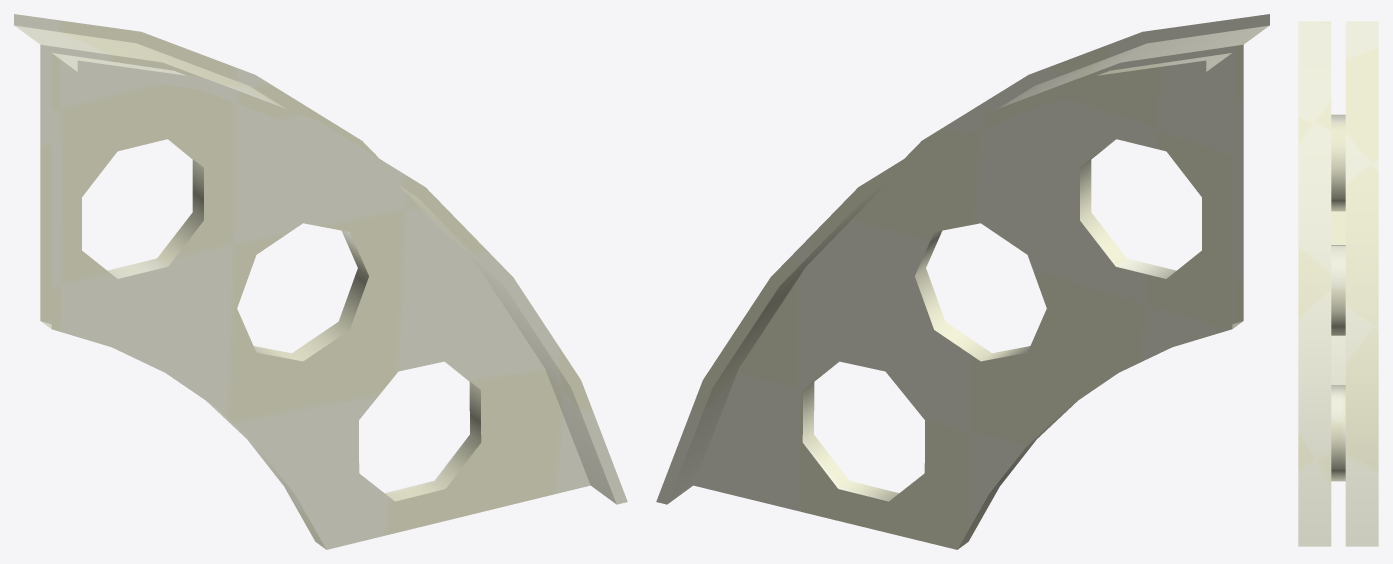
Rendered from wall_corner_round_struss.fbx.
The picture shows the model from 3 angles, left to right: view 1: azimuth 30°, elevation 25°; view 2: azimuth 150°, elevation 25°; view 3: azimuth 270°, elevation 25°; orthographic projection. The views are drawn at different scales.
Visible parts, largest first — view 1: wall_corner_round_struss; view 2: wall_corner_round_struss; view 3: wall_corner_round_struss.
Part boxes in pixels (x1=…): wall_corner_round_struss: x1=14, y1=14, x2=627, y2=549; wall_corner_round_struss: x1=656, y1=14, x2=1269, y2=549; wall_corner_round_struss: x1=1298, y1=21, x2=1378, y2=546.
Bounding box in the file's own units: 100 × 100 × 20.
